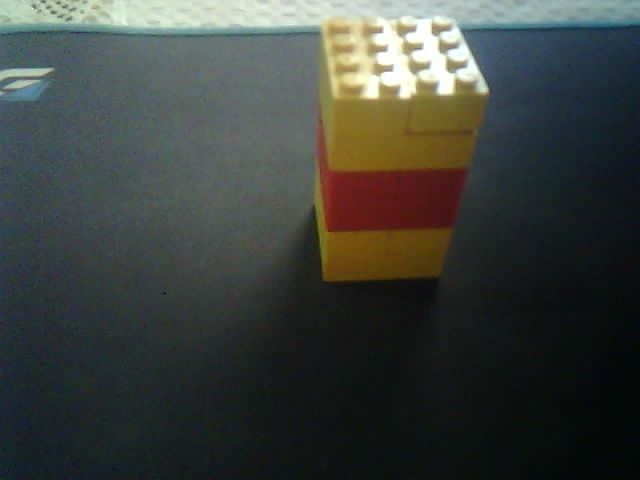lego: (310, 13, 490, 284)
